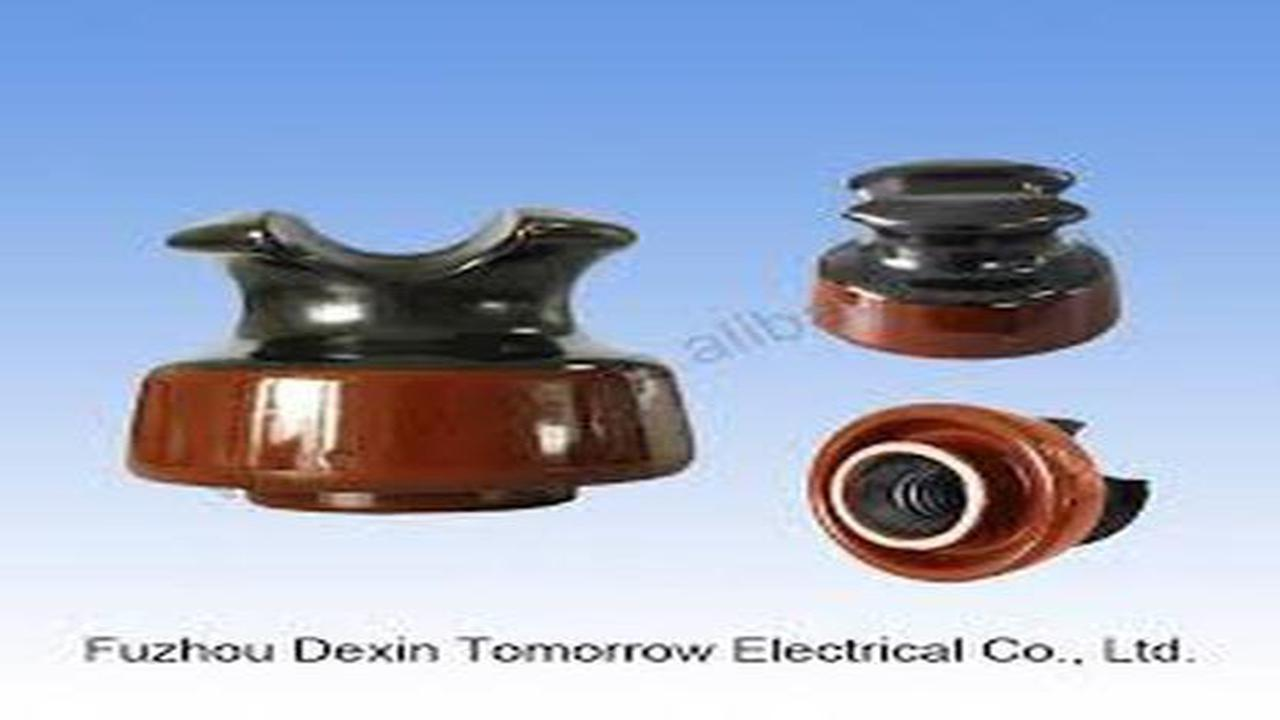insulator_pin: (121, 191, 721, 525)
